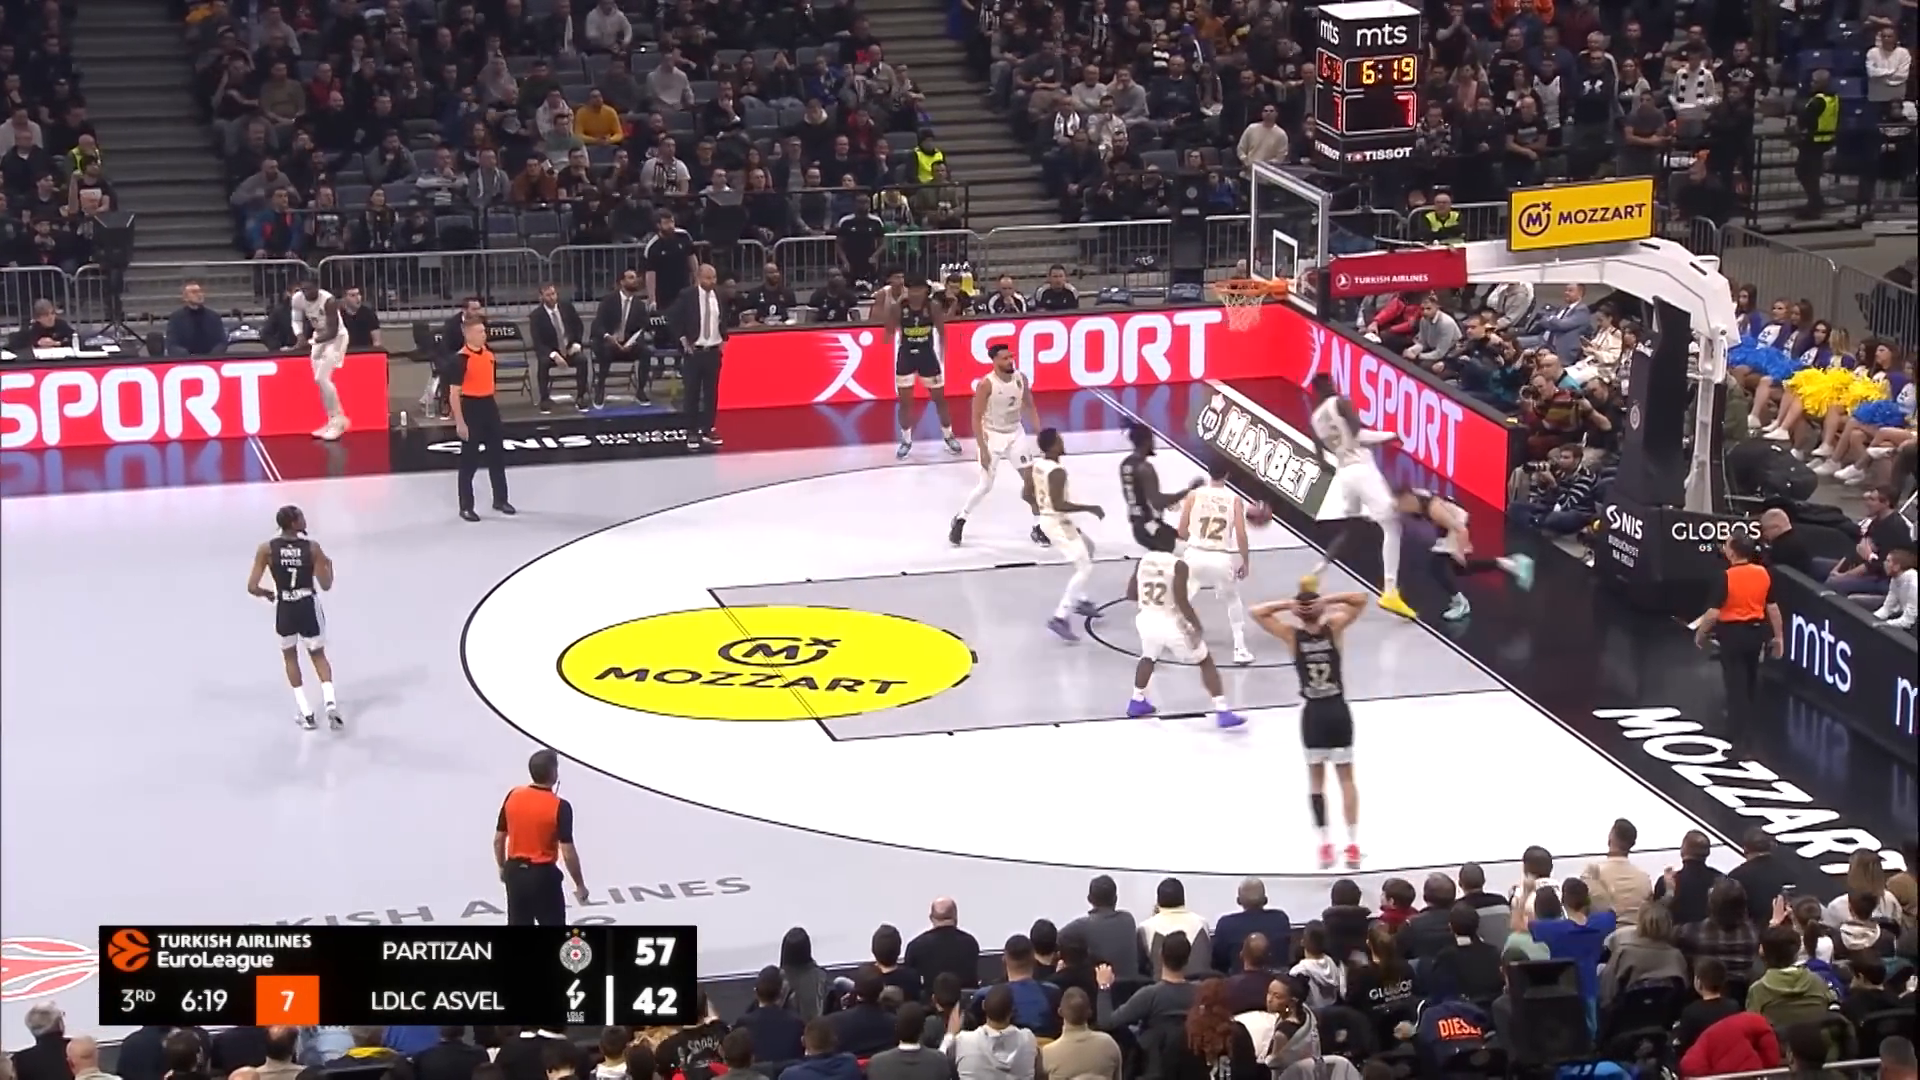ball: (1244, 496, 1276, 531)
net: (1209, 276, 1269, 332)
